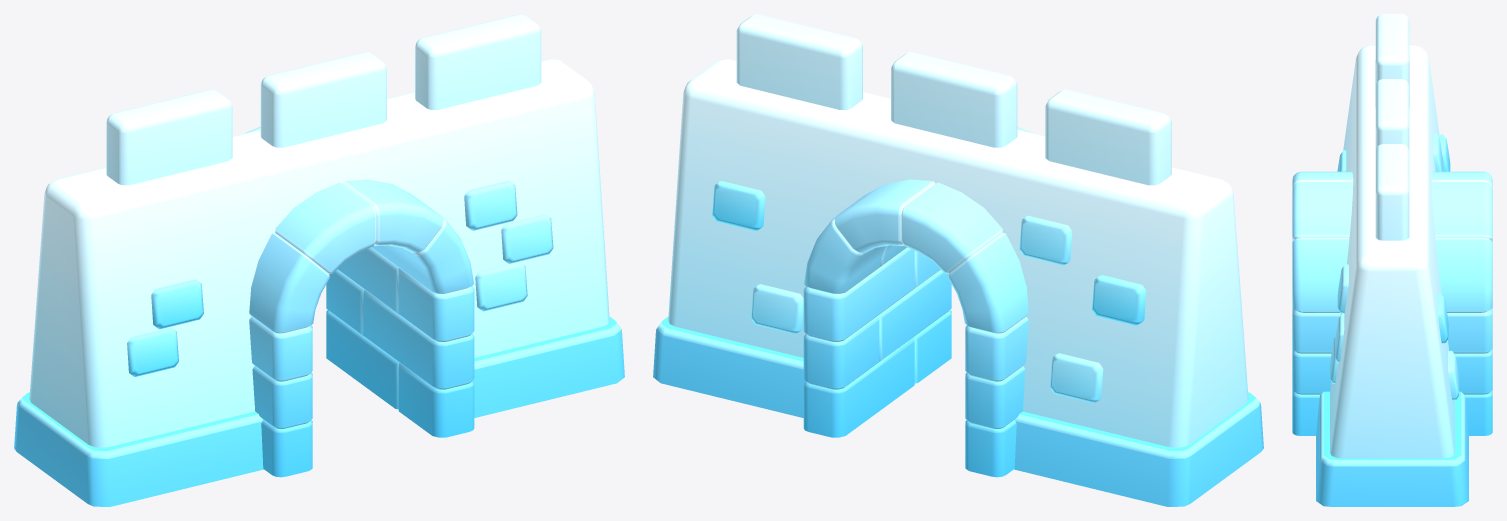
The model's file is wall_002.glb.
3 views of the same model, side by side, from view 1: azimuth 30°, elevation 25°; view 2: azimuth 150°, elevation 25°; view 3: azimuth 270°, elevation 25° (orthographic). The views are drawn at different scales.
Parts seen in each view (by area): view 1: wall_002; view 2: wall_002; view 3: wall_002.
Boxes of the visible parts, <box> form: wall_002: <box>14,14,624,506</box>; wall_002: <box>653,14,1263,506</box>; wall_002: <box>1292,14,1492,506</box>.
Size of the model in its own units: 9.06 by 5.56 by 3.41.
Materials: 1 (1 with a texture image).
